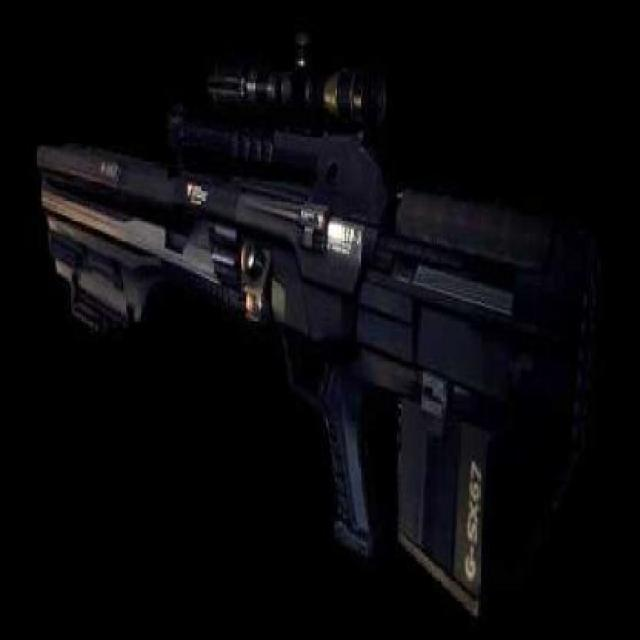weapon: (34, 37, 573, 611)
